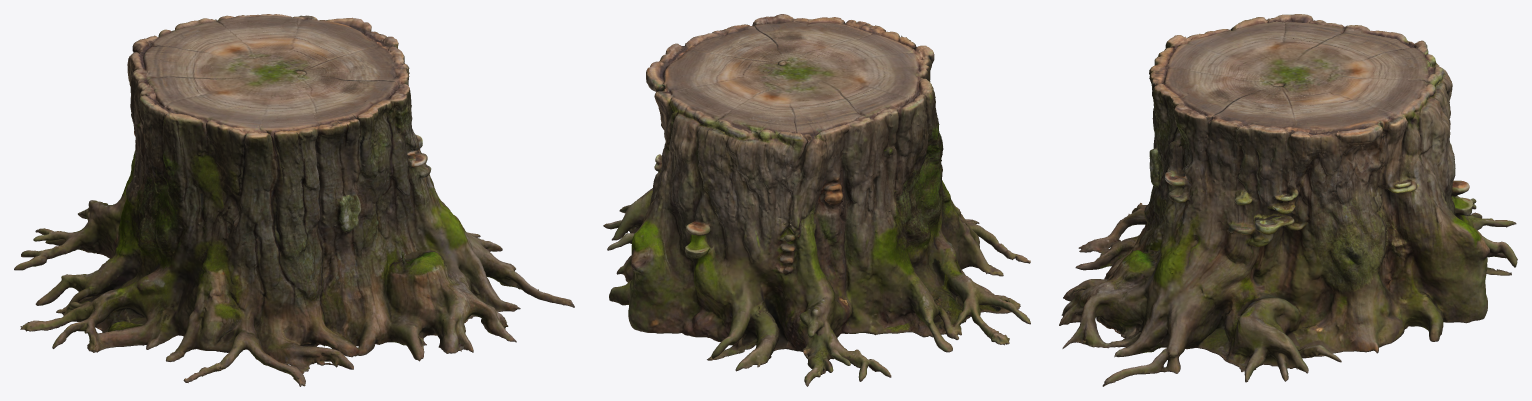
File: maple-stage7.glb
3 views of the same model, side by side, from view 1: azimuth 30°, elevation 25°; view 2: azimuth 150°, elevation 25°; view 3: azimuth 270°, elevation 25° (orthographic). The views are drawn at different scales.
Bounding box in the file's own units: 1.98 × 0.9311 × 1.79.
1 material, 1 textured.
